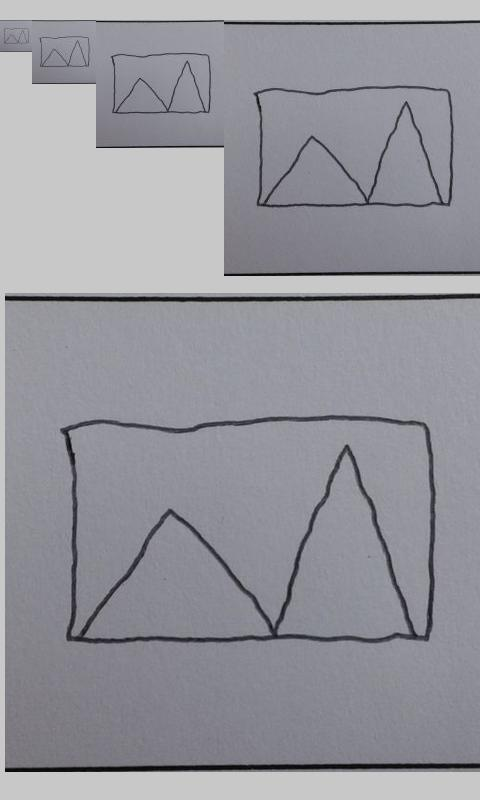image_view: (62, 412, 436, 650), (256, 85, 457, 212), (110, 52, 211, 114), (39, 36, 90, 68), (3, 27, 30, 45)
